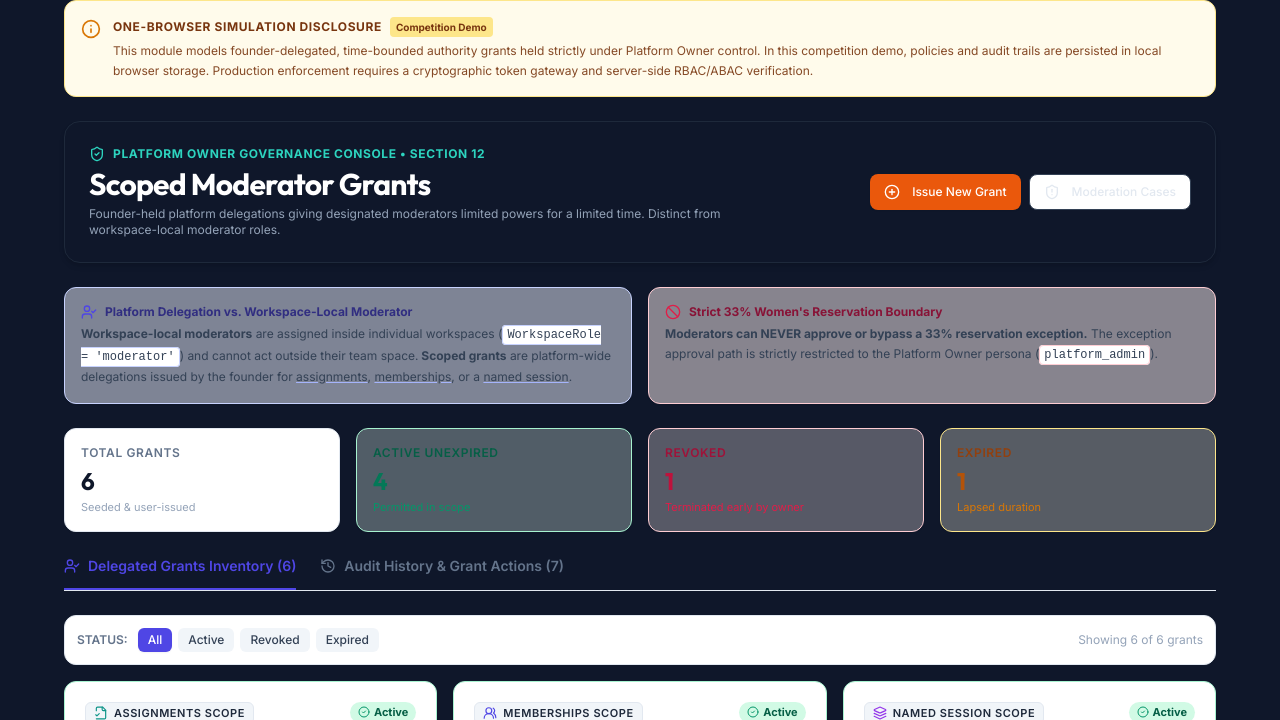
it: Change Plan v2 §12: Scoped Moderator Grants & Founder-Held Delegation › 8. Admin UI & Honest Simulation Disclosure › allows switching to Audit History tab to view recorded grant events
Expected: the text "Audit History & Grant Actions (7)" is shown, [344, 556, 564, 576]
Click the button "Audit History & Grant Actions (7)": (442,573) [320, 556, 564, 590]
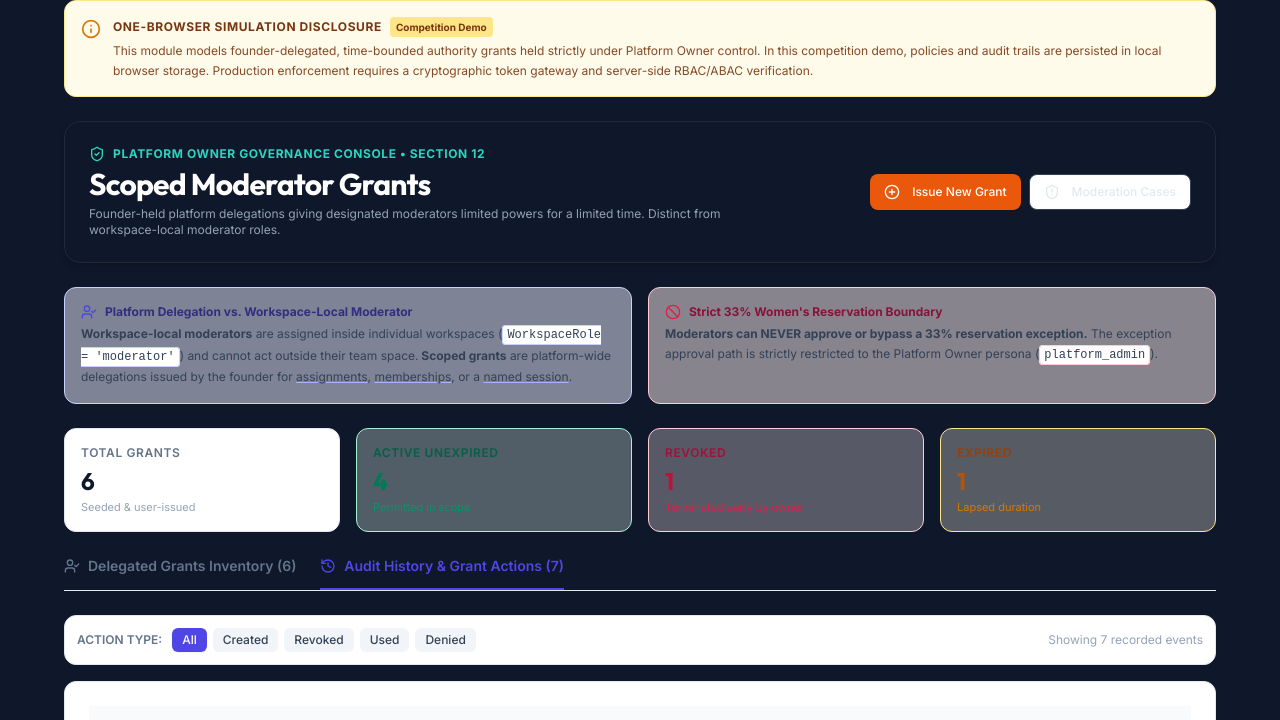
Now the text "Showing 7 recorded events" is shown, box [1048, 632, 1203, 648]
